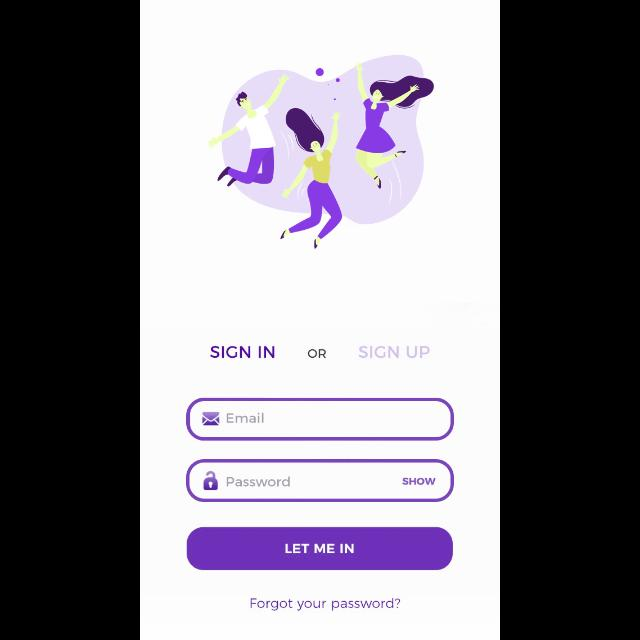icon: (204, 472, 218, 491), (202, 412, 220, 426)
image: (207, 56, 435, 250)
input: (187, 398, 455, 440), (187, 460, 455, 502)
text: (252, 598, 401, 610), (360, 346, 430, 358), (211, 346, 275, 358), (228, 477, 290, 488), (228, 412, 264, 423), (402, 478, 436, 486), (308, 349, 326, 358)
textbutton: (187, 528, 453, 570)
